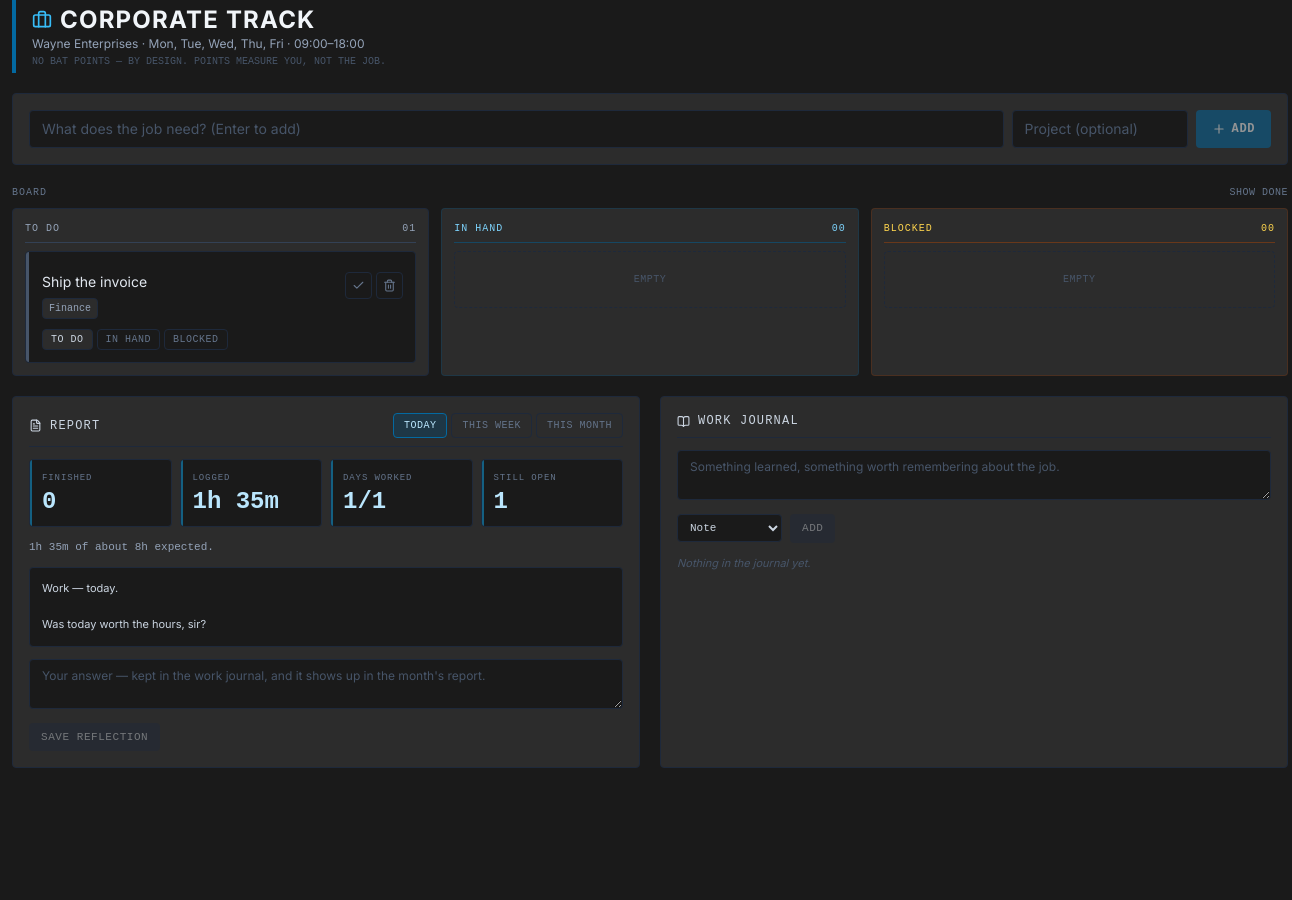
WorkPanel › adds a task from one field
In the field with placeholder "What does the job need? (Enter to add)": x=516, y=129 [29,110,1004,148], type "Review the deck"
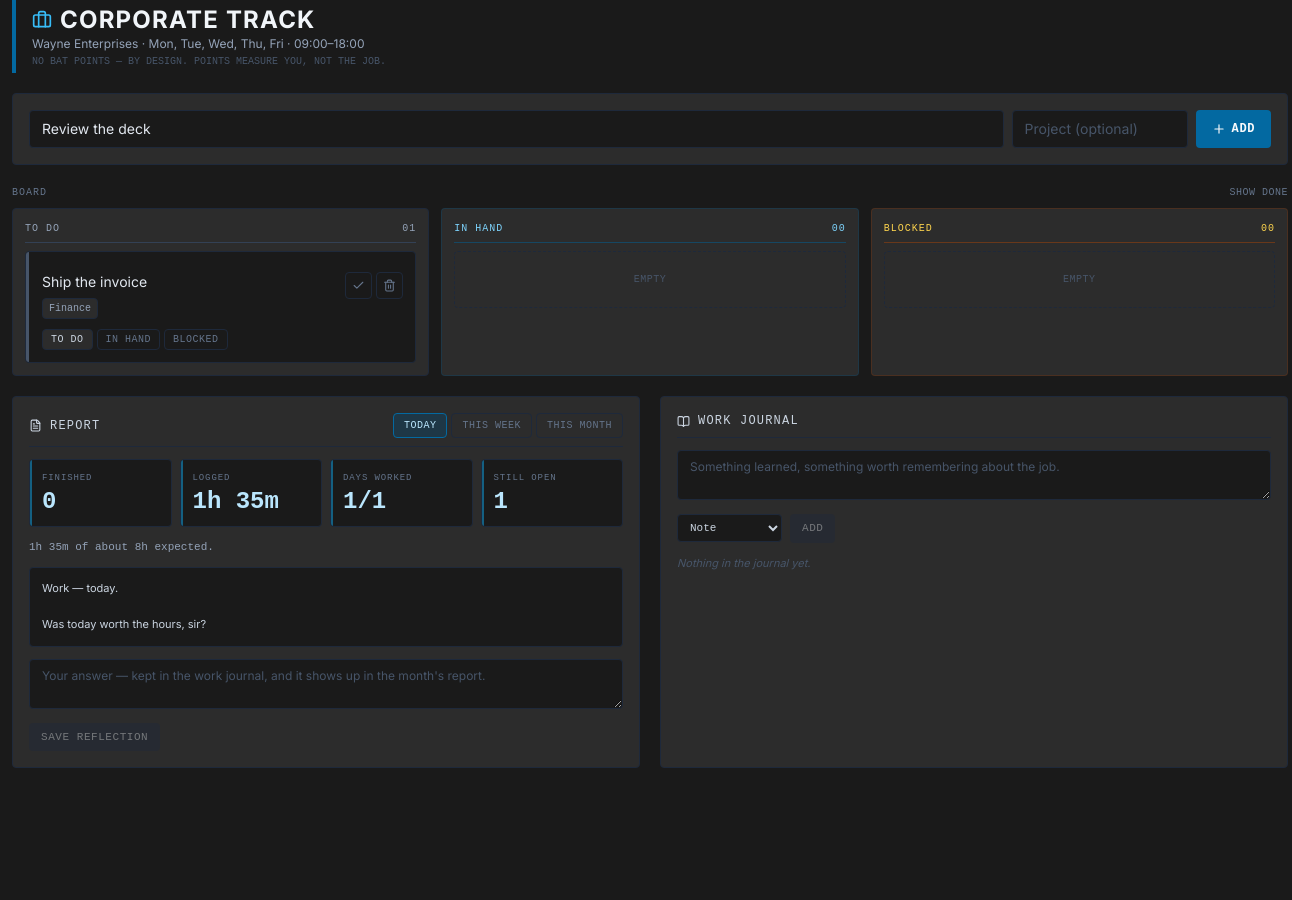
Click the button with aria-label "Add work task": x=1233, y=129 [1196,110,1271,148]
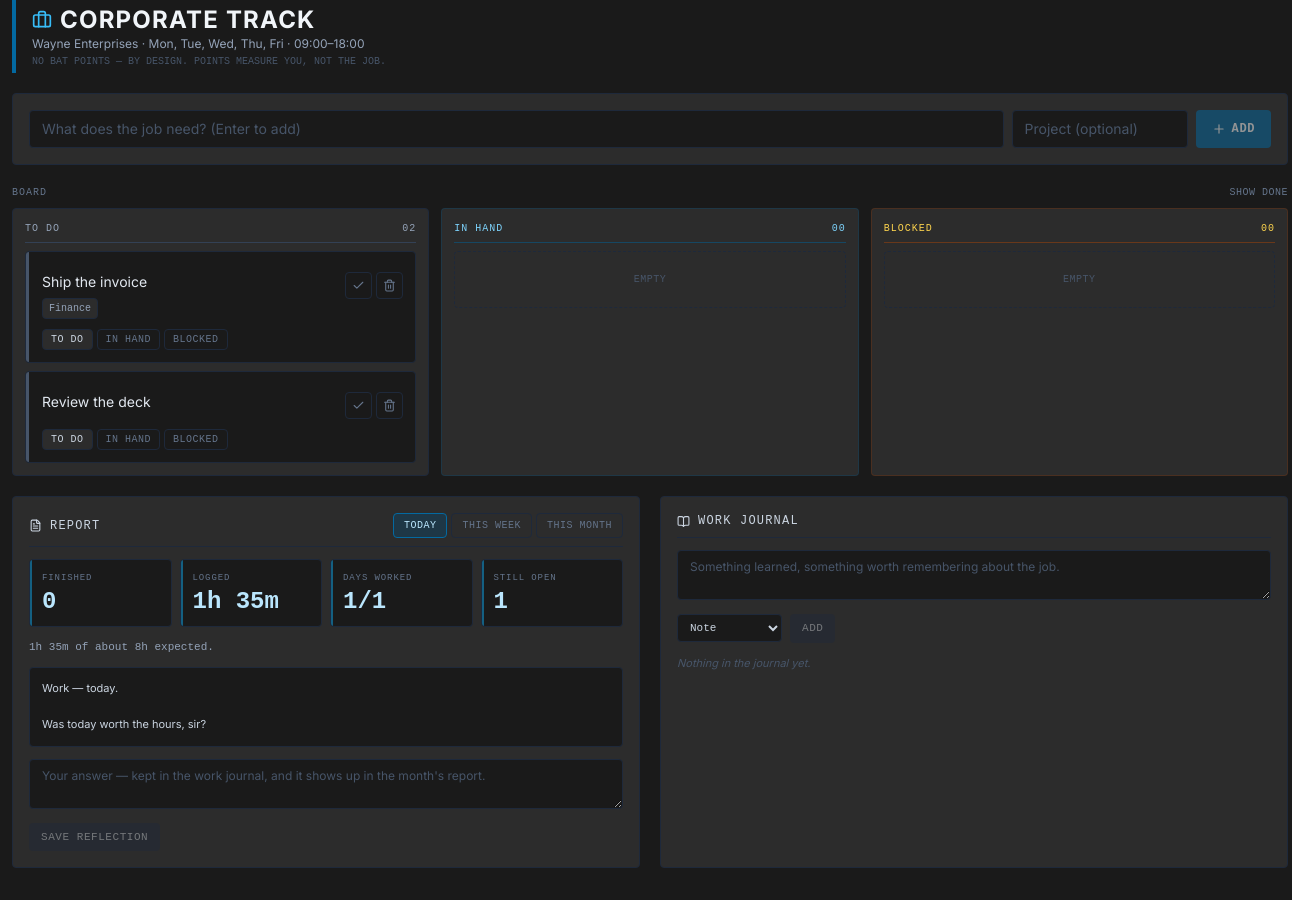
Expected: the text "Review the deck" is shown, [42,392,151,412]
